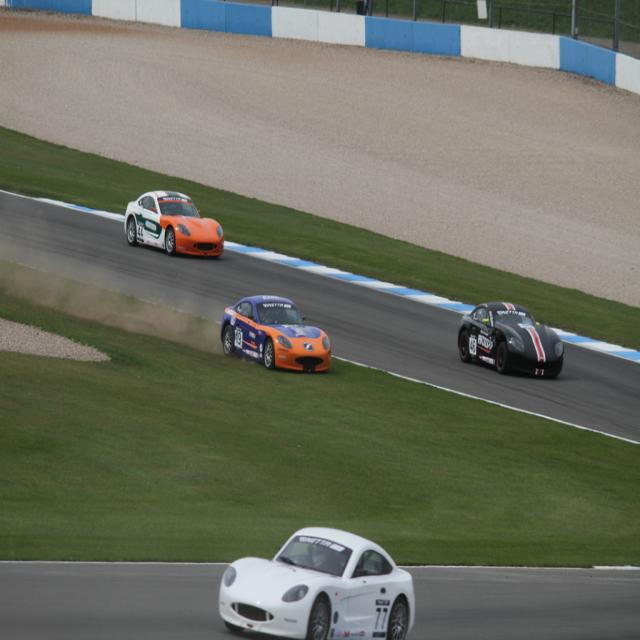car: (220, 294, 331, 374), (457, 300, 564, 378), (124, 187, 223, 257)
